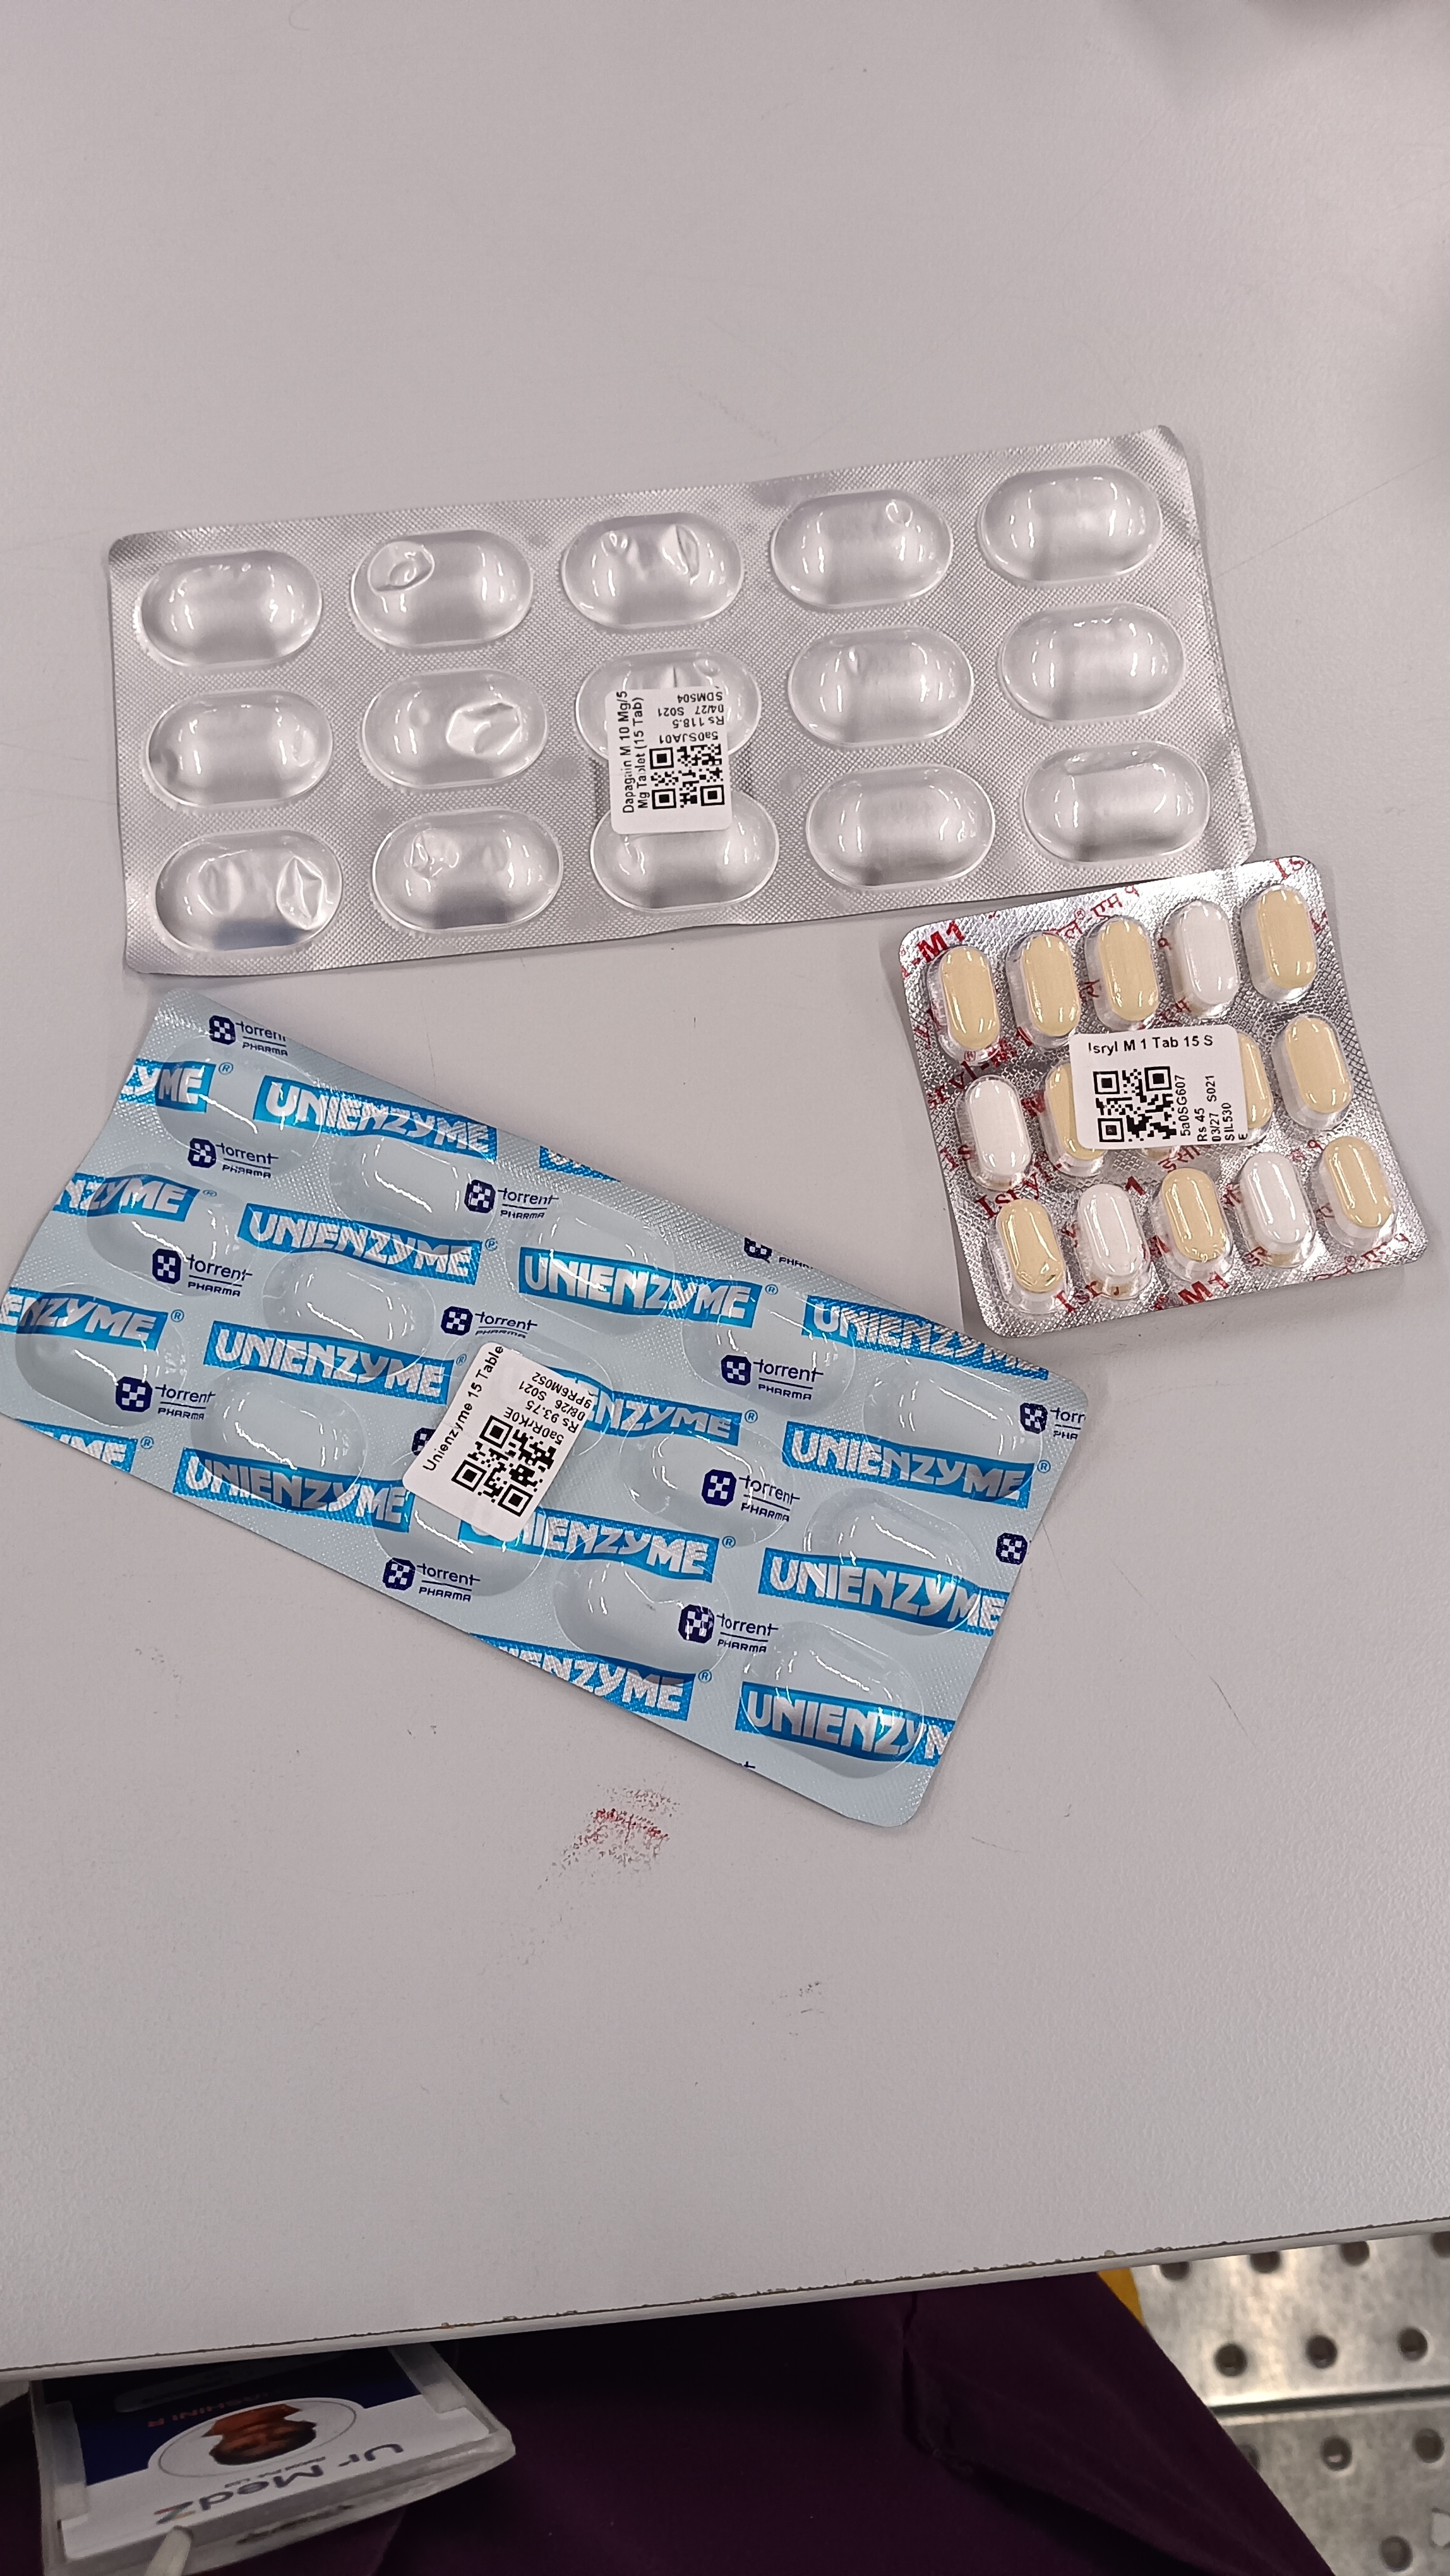QR: (450, 1362, 561, 1465)
